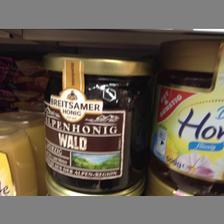Honig: (44, 55, 152, 191)
